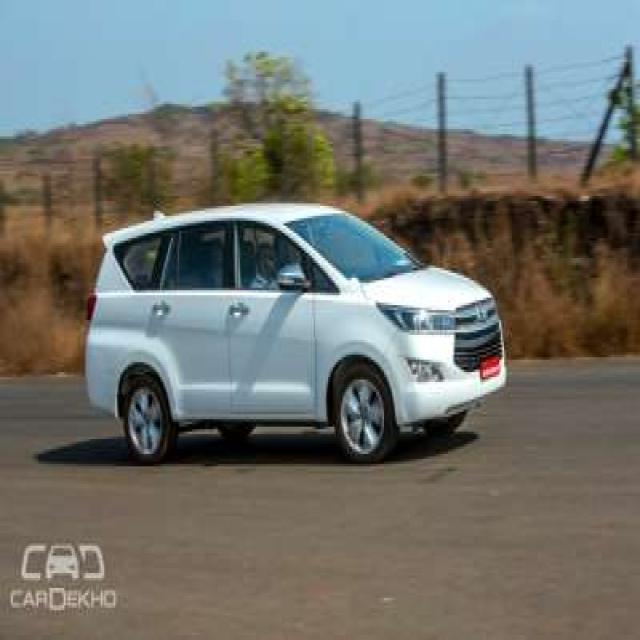light_vehicle: (82, 202, 508, 468)
